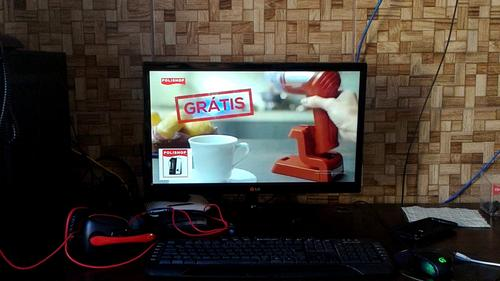Polishop #1: (159, 148, 192, 180)
